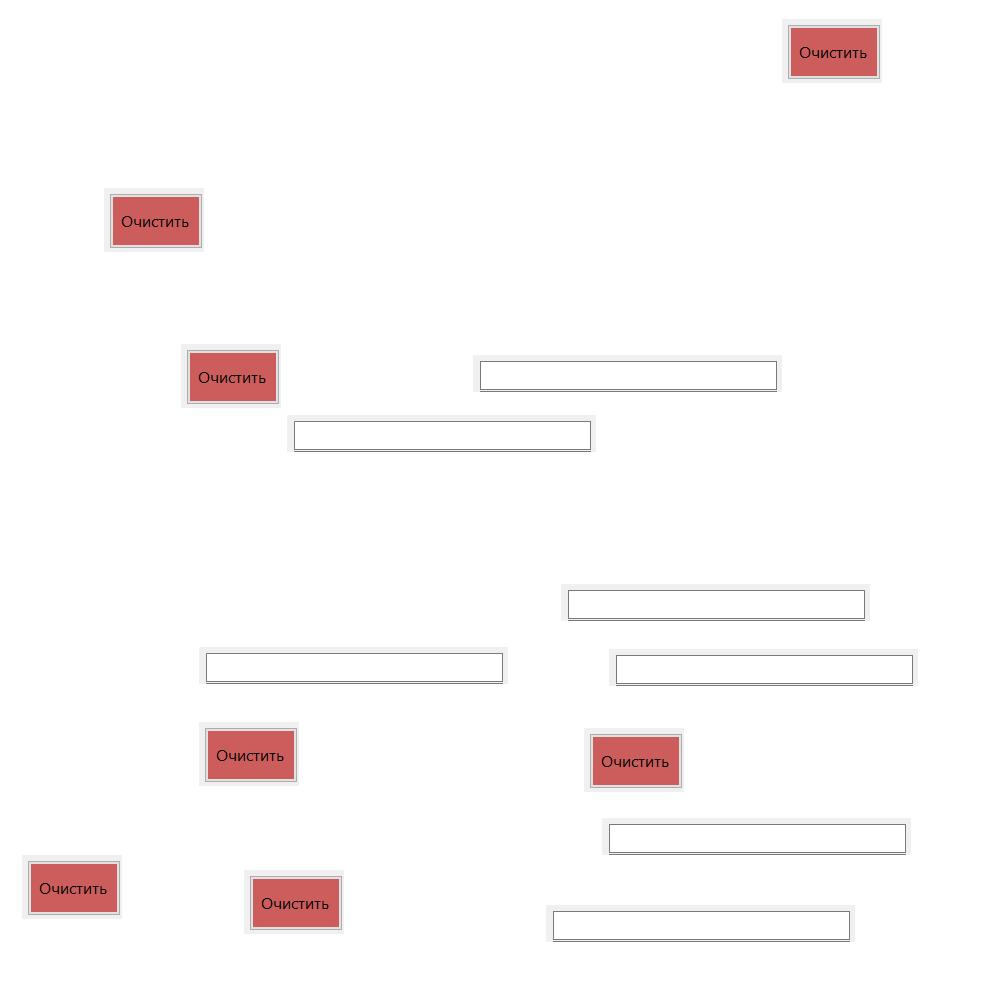Button: (244, 870, 344, 934), (104, 188, 204, 252), (782, 19, 882, 83), (584, 728, 684, 792), (22, 855, 122, 919), (199, 722, 299, 786), (181, 344, 281, 408)
EditText-: (546, 905, 855, 942), (602, 818, 911, 855), (561, 584, 870, 621), (609, 649, 918, 686), (287, 415, 596, 452), (473, 355, 782, 392), (199, 647, 508, 684)
